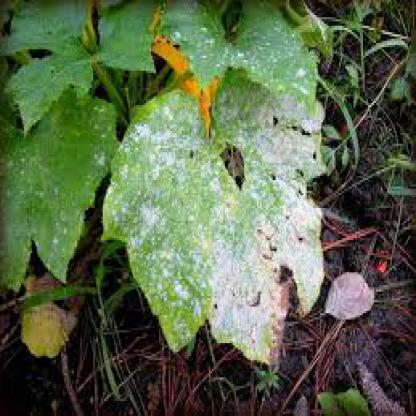PowderyMildew: (132, 135, 231, 294)
